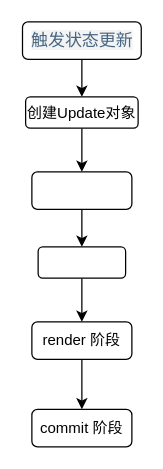
This 163x469 diagram has some shape labels left out. Here are the shapes that lost their labels. From the top down, the centre of each, then its label:
At pixel 81 190: "从fiber到root".
At pixel 81 262: "调度更新".
